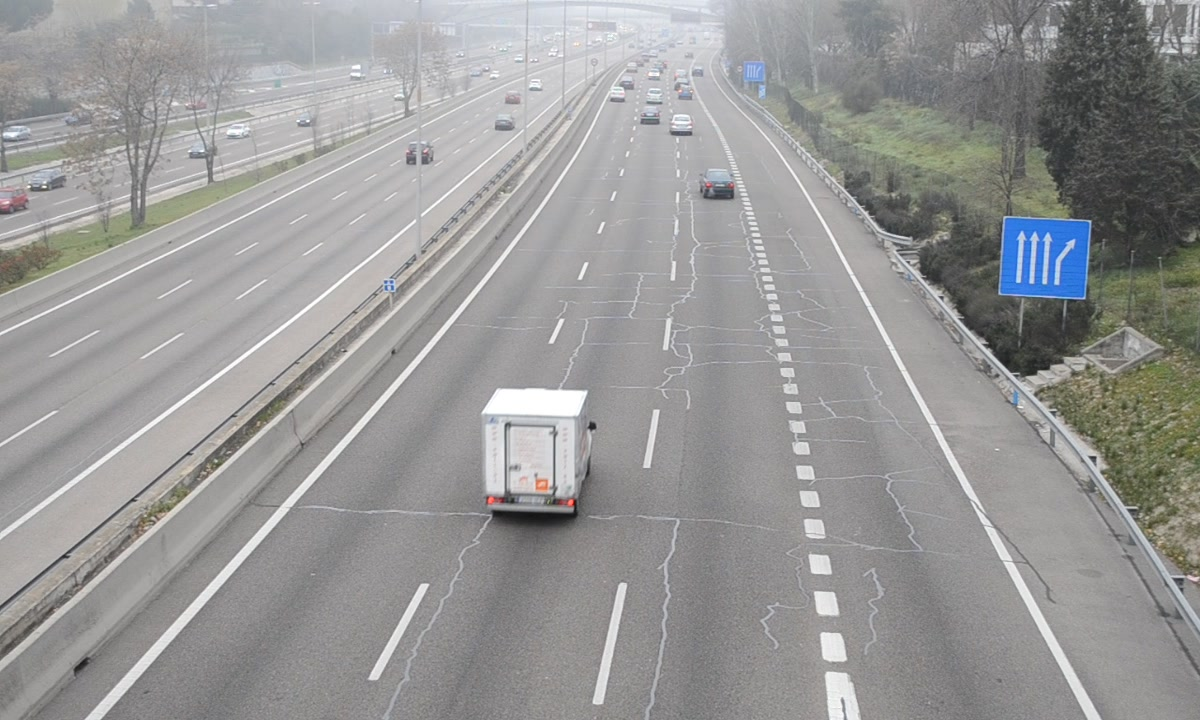car: (701, 166, 737, 199)
small-truck: (482, 389, 594, 515)
